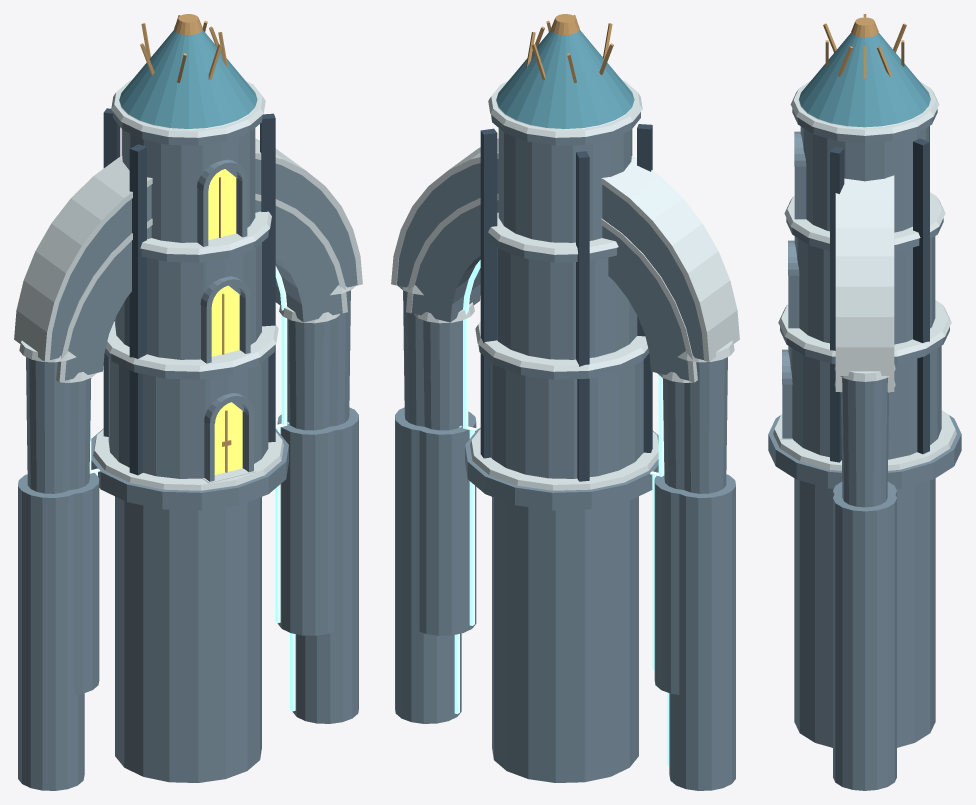
Rendered from world13-observatory-architecture-v1.glb.
The picture shows the model from 3 angles, left to right: view 1: azimuth 30°, elevation 25°; view 2: azimuth 150°, elevation 25°; view 3: azimuth 270°, elevation 25°; orthographic projection. The views are drawn at different scales.
Visible parts, largest first — view 1: W13_Grotto_1_W13_Bluegray_Stone, W13_Observatory_Tower_W13_Bluegray_Stone, W13_Grotto_0_W13_Bluegray_Stone, W13_House_2_W13_Bluegray_Stone, W13_Grotto_1_W13_Integrated_Snow, W13_Observatory_Tower_W13_Recess_Shadow, W13_Observatory_Tower_W13_Integrated_Snow, W13_Observatory_Tower_W13_Observatory_Ice, W13_House_0_W13_Bluegray_Stone, W13_House_3_W13_Bluegray_Stone, W13_Observatory_Tower_W13_Deep_Warm_Window, W13_House_1_W13_Bluegray_Stone (+3 smaller); view 2: W13_Grotto_1_W13_Bluegray_Stone, W13_Observatory_Tower_W13_Bluegray_Stone, W13_Grotto_0_W13_Bluegray_Stone, W13_House_2_W13_Bluegray_Stone, W13_Observatory_Tower_W13_Recess_Shadow, W13_Grotto_1_W13_Integrated_Snow, W13_Observatory_Tower_W13_Observatory_Ice, W13_Observatory_Tower_W13_Integrated_Snow, W13_House_0_W13_Bluegray_Stone, W13_House_3_W13_Bluegray_Stone, W13_Grotto_0_W13_Grotto_Glow, W13_House_1_W13_Bluegray_Stone (+3 smaller); view 3: W13_Observatory_Tower_W13_Bluegray_Stone, W13_Grotto_1_W13_Bluegray_Stone, W13_House_2_W13_Bluegray_Stone, W13_Grotto_1_W13_Integrated_Snow, W13_Observatory_Tower_W13_Observatory_Ice, W13_Observatory_Tower_W13_Integrated_Snow, W13_Observatory_Tower_W13_Recess_Shadow, W13_House_1_W13_Bluegray_Stone, W13_House_0_W13_Bluegray_Stone, W13_Observatory_Tower_W13_Moon_Copper.
Boxes of the visible parts, left/top/right/bottom form: W13_Grotto_1_W13_Bluegray_Stone: left=18, top=159, right=358, bottom=790; W13_Observatory_Tower_W13_Bluegray_Stone: left=91, top=112, right=288, bottom=510; W13_Grotto_0_W13_Bluegray_Stone: left=59, top=200, right=343, bottom=694; W13_House_2_W13_Bluegray_Stone: left=115, top=497, right=261, bottom=782; W13_Grotto_1_W13_Integrated_Snow: left=14, top=138, right=362, bottom=362; W13_Observatory_Tower_W13_Recess_Shadow: left=103, top=108, right=275, bottom=475; W13_Observatory_Tower_W13_Integrated_Snow: left=93, top=80, right=283, bottom=490; W13_Observatory_Tower_W13_Observatory_Ice: left=119, top=30, right=257, bottom=128; W13_House_0_W13_Bluegray_Stone: left=115, top=497, right=261, bottom=616; W13_House_3_W13_Bluegray_Stone: left=117, top=497, right=261, bottom=587; W13_Observatory_Tower_W13_Deep_Warm_Window: left=208, top=169, right=242, bottom=474; W13_House_1_W13_Bluegray_Stone: left=115, top=496, right=261, bottom=620; W13_Grotto_1_W13_Bluegray_Stone: left=395, top=159, right=735, bottom=790; W13_Observatory_Tower_W13_Bluegray_Stone: left=465, top=112, right=658, bottom=510; W13_Grotto_0_W13_Bluegray_Stone: left=411, top=200, right=696, bottom=694; W13_House_2_W13_Bluegray_Stone: left=492, top=497, right=638, bottom=782; W13_Observatory_Tower_W13_Recess_Shadow: left=480, top=124, right=652, bottom=481; W13_Grotto_1_W13_Integrated_Snow: left=391, top=138, right=739, bottom=362; W13_Observatory_Tower_W13_Observatory_Ice: left=496, top=30, right=634, bottom=128; W13_Observatory_Tower_W13_Integrated_Snow: left=470, top=80, right=658, bottom=490; W13_House_0_W13_Bluegray_Stone: left=492, top=496, right=638, bottom=616; W13_House_3_W13_Bluegray_Stone: left=492, top=497, right=638, bottom=587; W13_Grotto_0_W13_Grotto_Glow: left=463, top=260, right=664, bottom=670; W13_House_1_W13_Bluegray_Stone: left=492, top=497, right=638, bottom=620; W13_Observatory_Tower_W13_Bluegray_Stone: left=768, top=109, right=961, bottom=488; W13_Grotto_1_W13_Bluegray_Stone: left=833, top=377, right=896, bottom=790; W13_House_2_W13_Bluegray_Stone: left=794, top=479, right=935, bottom=747; W13_Grotto_1_W13_Integrated_Snow: left=834, top=175, right=895, bottom=381; W13_Observatory_Tower_W13_Observatory_Ice: left=799, top=32, right=930, bottom=127; W13_Observatory_Tower_W13_Integrated_Snow: left=773, top=81, right=956, bottom=470; W13_Observatory_Tower_W13_Recess_Shadow: left=830, top=126, right=929, bottom=462; W13_House_1_W13_Bluegray_Stone: left=794, top=478, right=935, bottom=593; W13_House_0_W13_Bluegray_Stone: left=825, top=485, right=912, bottom=589; W13_Observatory_Tower_W13_Moon_Copper: left=823, top=14, right=906, bottom=78.
Bounding box in the file's own units: 10.06 × 21.19 × 5.3.
